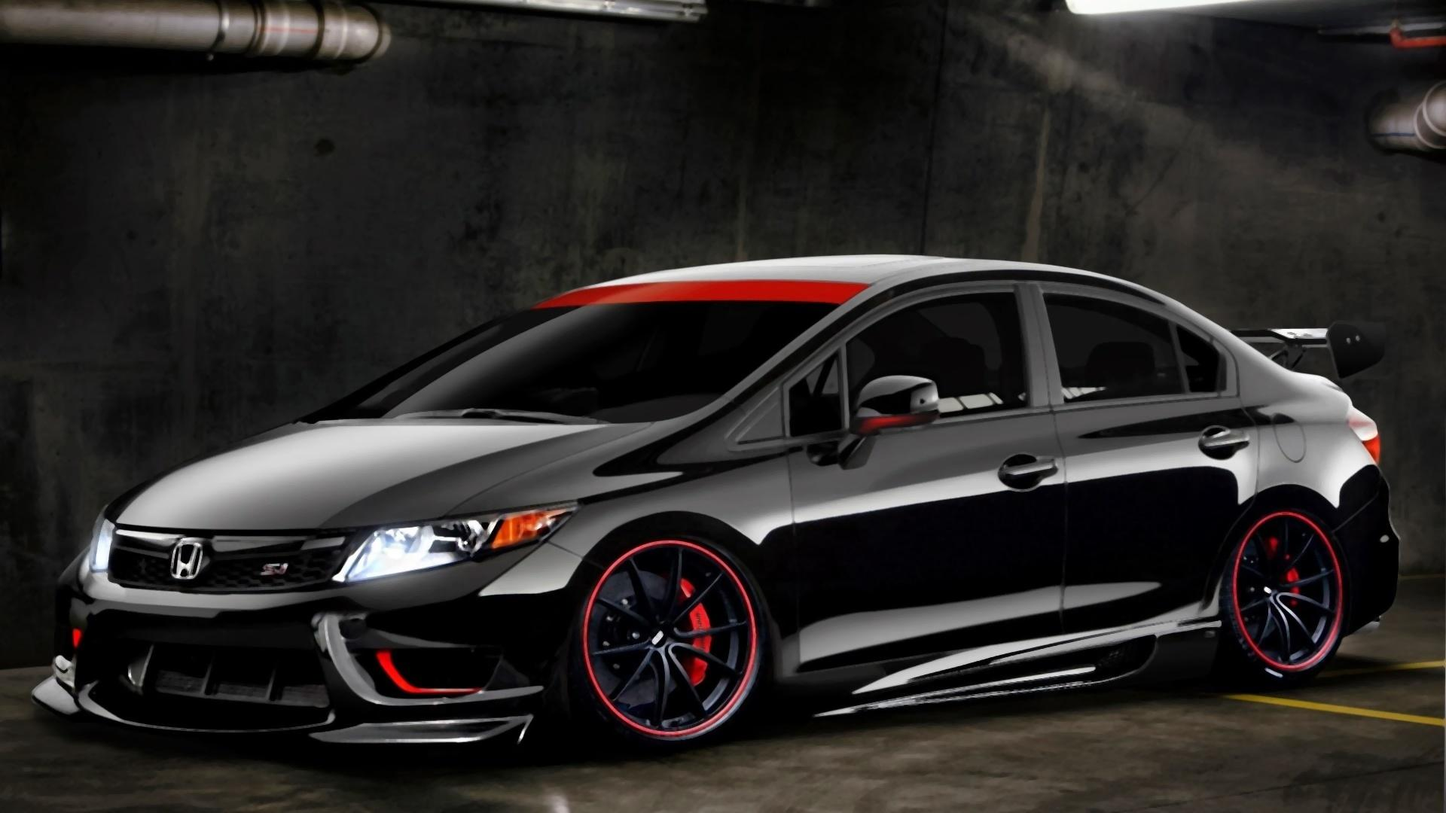Car hood: (94, 413, 651, 543)
Fender - -F-L-: (539, 369, 807, 731)
Fender - -R-L-: (1219, 326, 1386, 587)
Front bumper: (21, 541, 608, 770)
Headlight - -L-: (333, 502, 573, 585)
Headlight - -R-: (81, 503, 118, 578)
Passenger-s door - -F-L-: (776, 220, 1078, 736)
Passenger-s door - -R-L-: (1028, 227, 1275, 737)
Rear light - -L-: (1342, 394, 1383, 478)
Side bumper - -L-: (759, 614, 1232, 759)
Side mirror - -L-: (812, 372, 939, 473)
